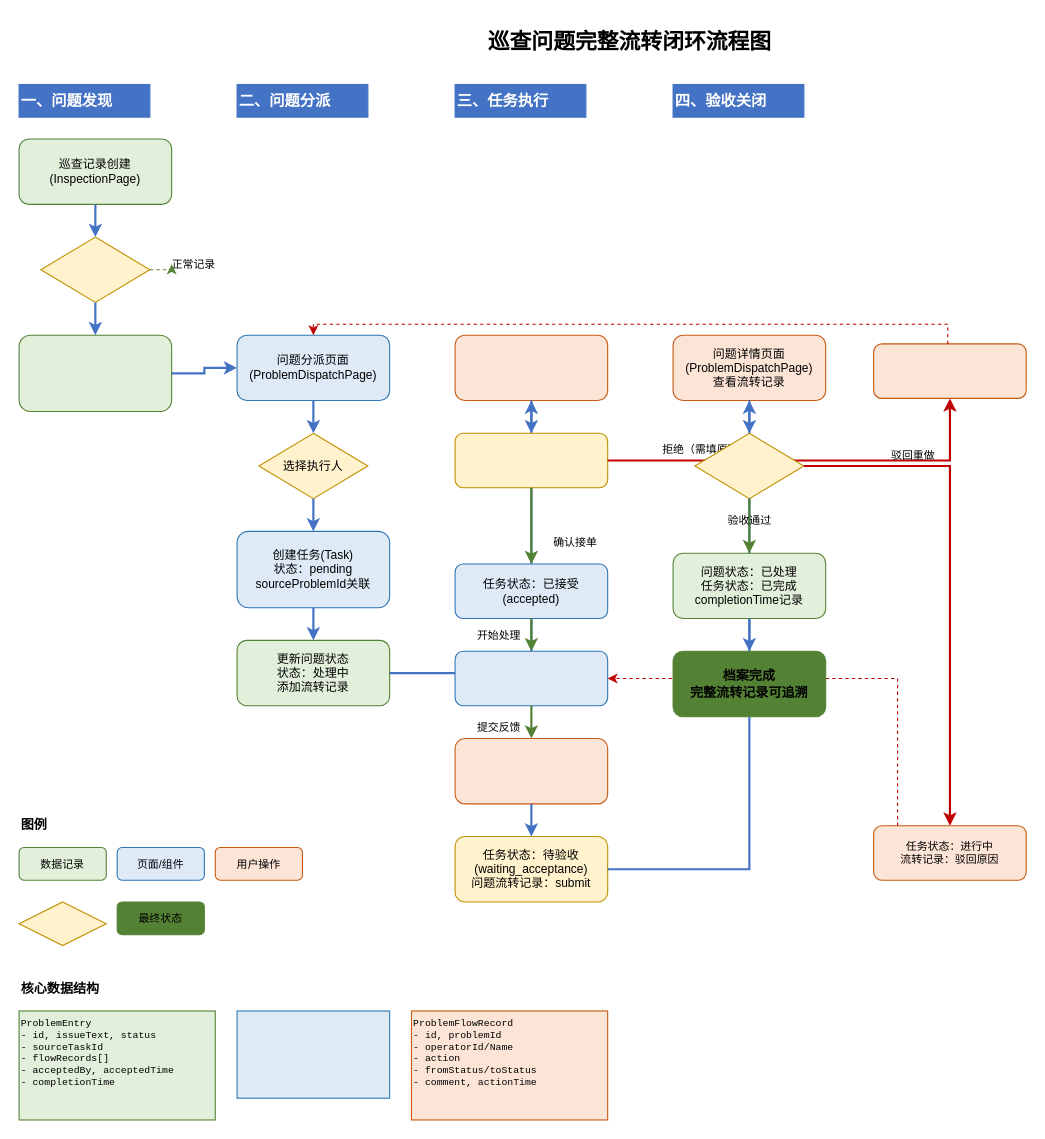
The diagram is 1045 pixels wide and 1139 high, and some of its shapes have lost their labels. The shapes that lost their labels are listed below. From the top down, each one's centre as x and y in pixels, then its label:
(95,269): 发现异常问题？
(95,372): 添加问题记录 (ProblemEntry) 状态：待处理
(531,367): 我的任务页面 (MyTasksPage)
(949,370): 问题状态：待处理 流转记录：拒绝原因
(531,460): 任务状态：待接受 (pending)
(749,465): 验收通过？
(531,678): 任务状态：进行中 (in_progress)
(531,770): 填写反馈表单 (TaskFlowTimeline) 处理结果/工作量/照片
(62,923): 判断节点
(313,1054): Task - id, title, status - sourceProblemId - assigneeId - progress
